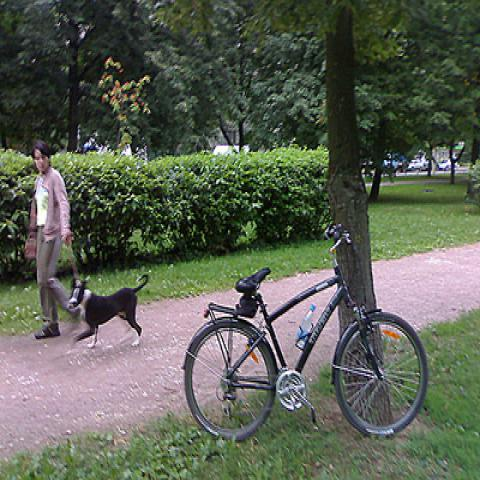car: (438, 158, 460, 170), (406, 160, 424, 172)
